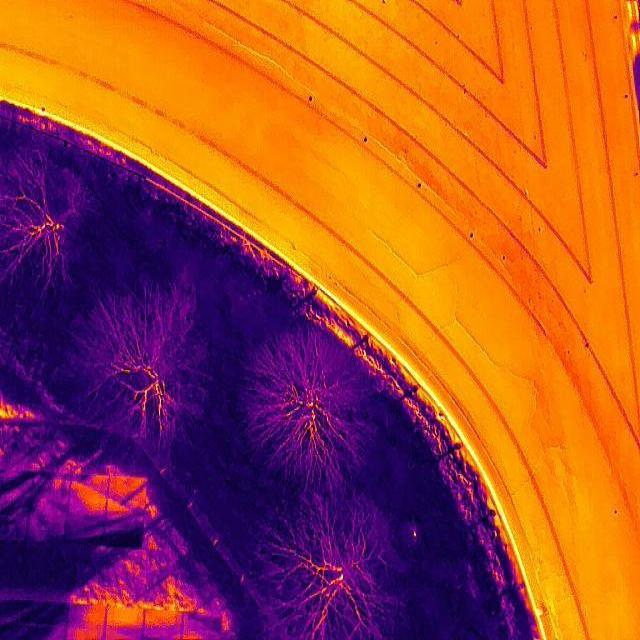Shadowing: (66, 517, 106, 545), (28, 515, 66, 543), (108, 497, 145, 525), (67, 498, 108, 520), (108, 476, 147, 499), (144, 610, 184, 632), (68, 605, 107, 627), (106, 606, 143, 629), (68, 475, 107, 496), (105, 525, 142, 547), (33, 602, 69, 624), (0, 599, 32, 621), (0, 622, 32, 640), (33, 624, 68, 640)
